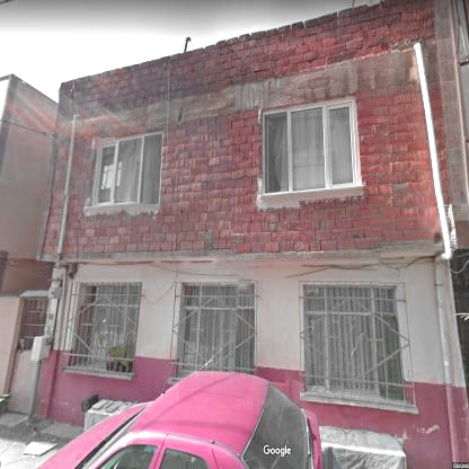door: (6, 298, 47, 413)
